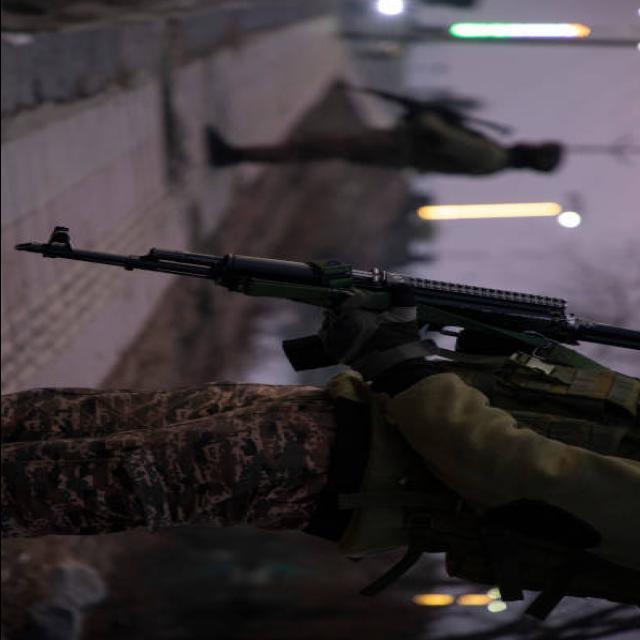soldier: (0, 291, 640, 613), (207, 110, 564, 176)
